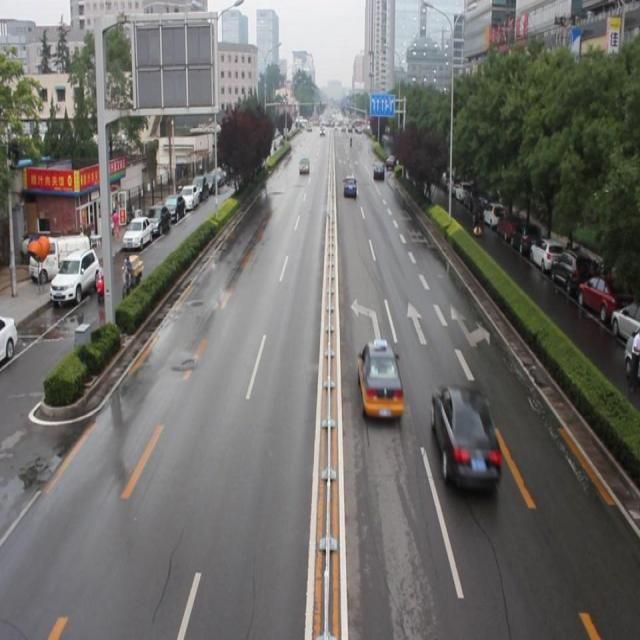car: (429, 383, 501, 494), (356, 336, 404, 421), (341, 175, 357, 197), (298, 156, 310, 173), (372, 162, 383, 178)
